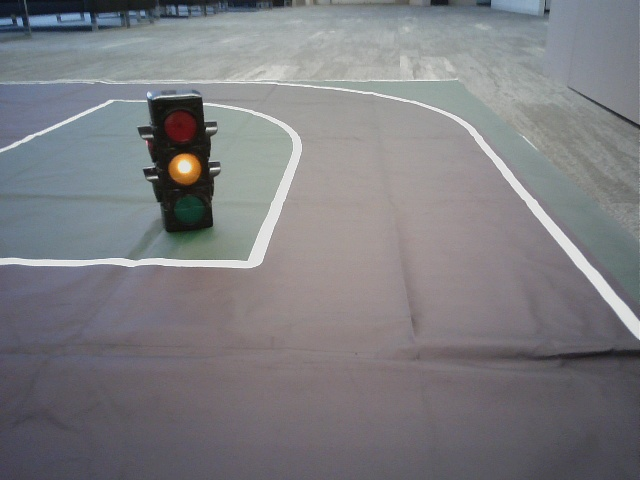yellow: (158, 101, 213, 225)
